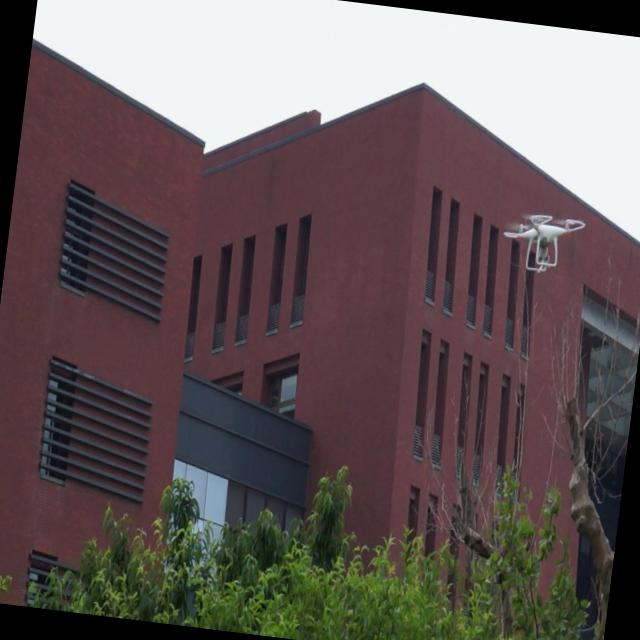drone: (494, 203, 588, 280)
